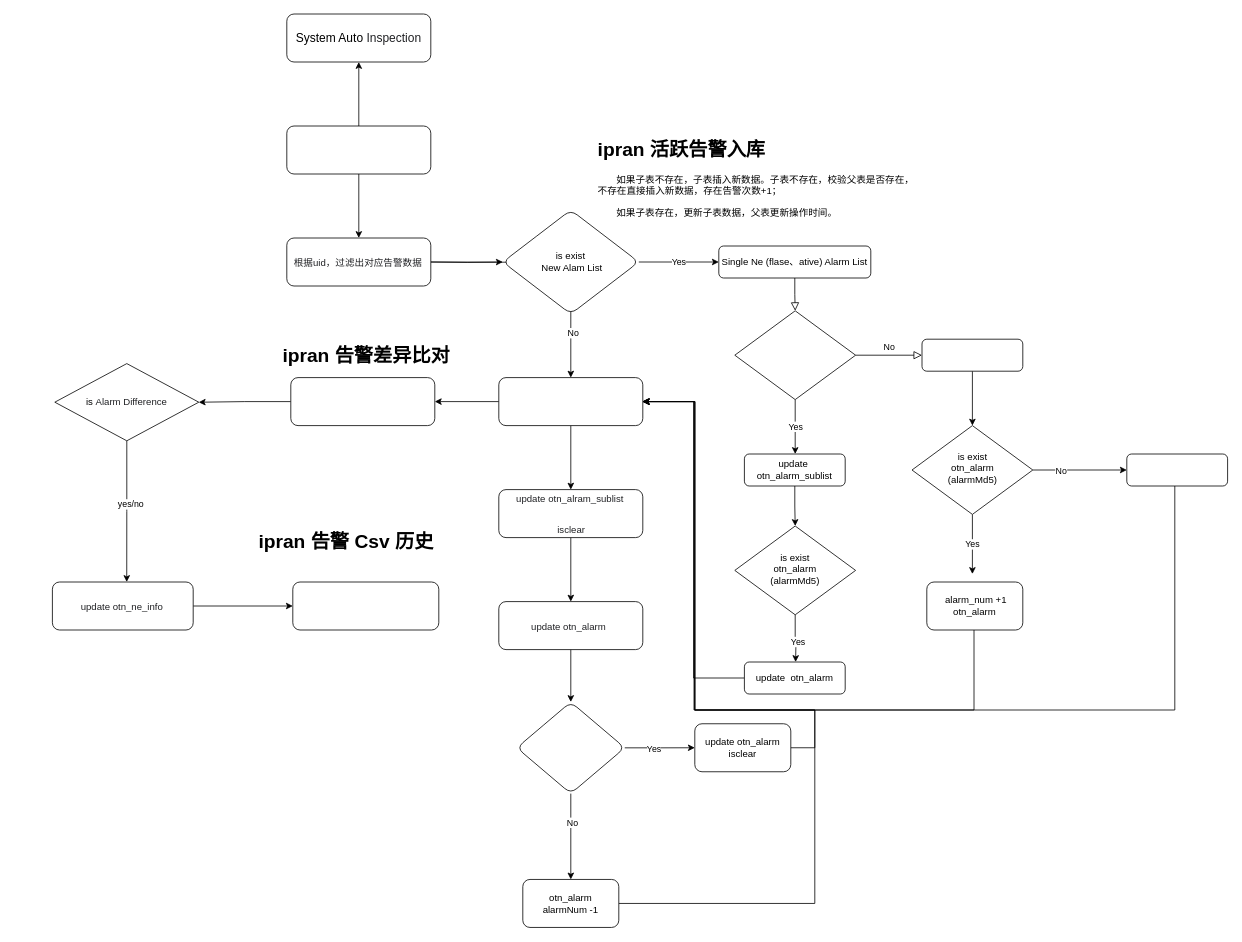
The diagram is 1242 pixels wide and 942 high, and some of its shapes have lost their labels. Here are the shapes that lost their labels. From the top down, the centre of each, then its label:
At [358,149]: "Synchronize ipran Alarm".
At [795,355]: "is exist otn_alarm_sublist (neId、faultId)".
At [972,354]: "insert otn_alarm_sublist".
At [362,401]: "Check Otn Alarm Difference".
At [570,401]: "update clear Alarm".
At [1177,469]: "insert otn_alarm".
At [365,605]: "save csv (只保存差异数据)".
At [570,747]: "is alarmNum 0".
